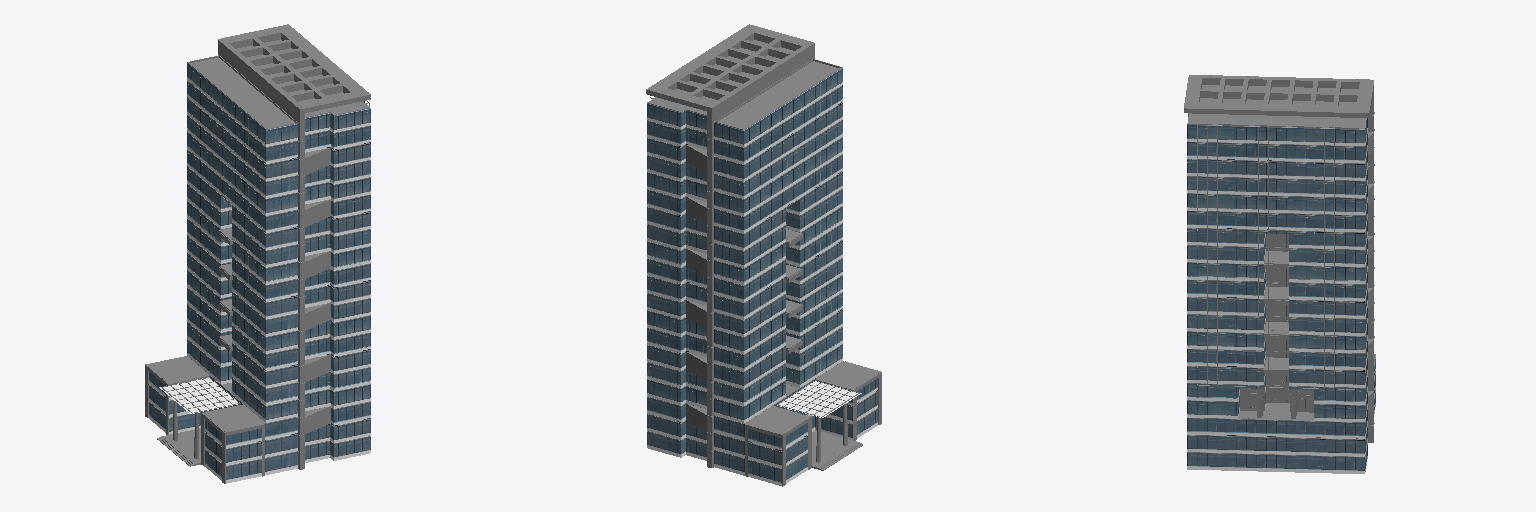
3 views of the same model, side by side, from view 1: azimuth 30°, elevation 25°; view 2: azimuth 150°, elevation 25°; view 3: azimuth 270°, elevation 25° (orthographic).
Parts seen in each view (by area): view 1: JZ_JX_17; view 2: JZ_JX_17; view 3: JZ_JX_17.
Part boxes in pixels (bbox=[...]): JZ_JX_17: bbox=[145, 24, 370, 483]; JZ_JX_17: bbox=[646, 24, 881, 486]; JZ_JX_17: bbox=[1184, 75, 1375, 473].
Bounding box in the file's own units: 3704 × 7890 × 3821.
Materials: 8 (1 with a texture image).